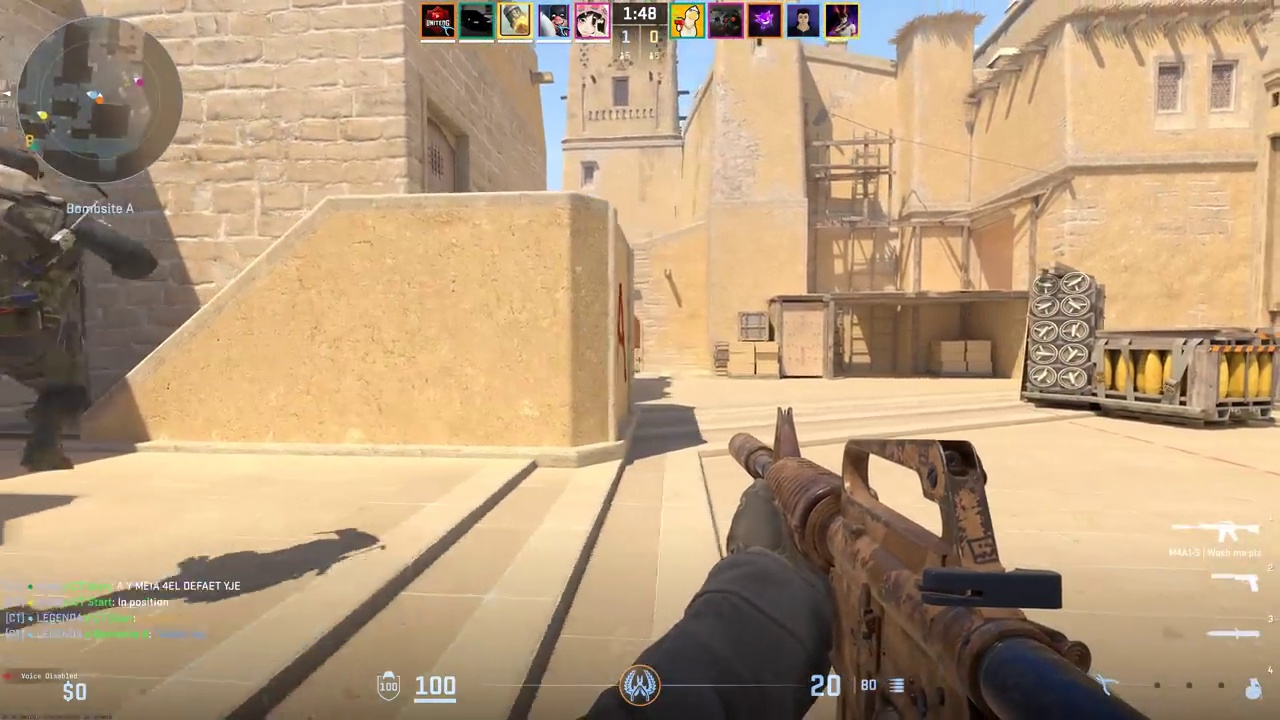CT: (0, 151, 94, 472)
